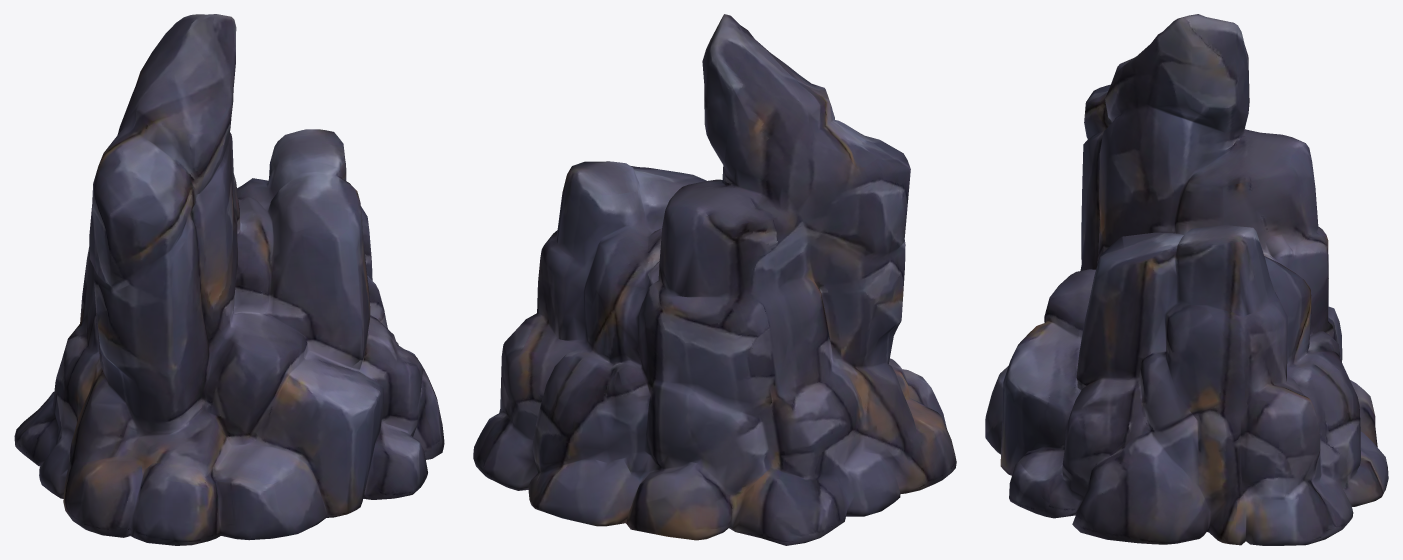
Rendered from SM_Env_InfernoBasalt.glb.
3 renders of one model, left to right at view 1: azimuth 30°, elevation 25°; view 2: azimuth 150°, elevation 25°; view 3: azimuth 270°, elevation 25°, orthographic.
Parts seen in each view (by area): view 1: SM_Env_InfernoBasalt_LOD0; view 2: SM_Env_InfernoBasalt_LOD0; view 3: SM_Env_InfernoBasalt_LOD0.
Part boxes in pixels (bbox=[...]): SM_Env_InfernoBasalt_LOD0: bbox=[14, 14, 444, 545]; SM_Env_InfernoBasalt_LOD0: bbox=[473, 14, 956, 545]; SM_Env_InfernoBasalt_LOD0: bbox=[985, 14, 1388, 545].
Size of the model in its own units: 2.57 by 2.85 by 2.39.
Materials: 1 (1 with a texture image).
